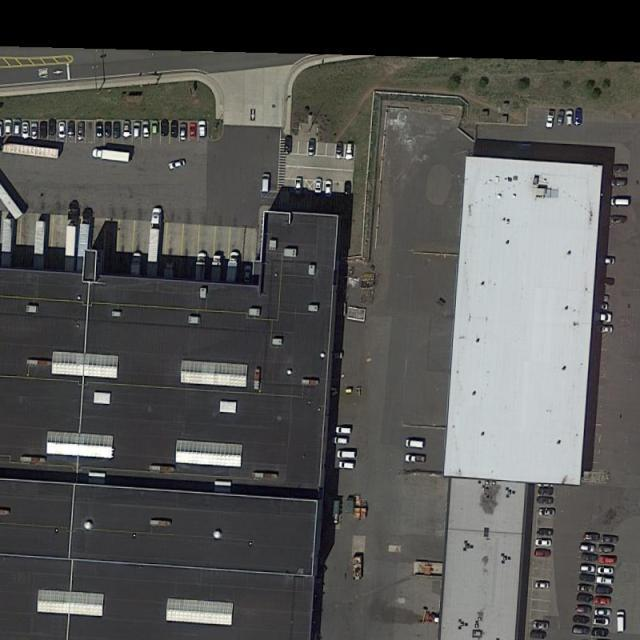vehicle: (1, 176, 34, 226), (146, 204, 166, 281), (1, 139, 63, 163), (62, 200, 78, 275), (76, 207, 91, 272), (91, 147, 132, 166), (210, 253, 224, 289), (128, 252, 144, 281), (194, 254, 207, 283), (228, 251, 241, 274), (590, 311, 612, 323), (406, 439, 425, 450), (334, 461, 354, 471), (168, 159, 186, 170), (545, 111, 556, 129), (531, 620, 550, 630), (572, 614, 591, 624), (617, 612, 626, 633), (406, 454, 427, 463), (592, 326, 615, 334), (578, 543, 598, 552), (572, 626, 590, 636), (607, 179, 629, 187), (77, 122, 86, 141), (178, 123, 187, 142), (261, 174, 270, 193), (600, 534, 619, 543), (596, 577, 615, 586), (530, 630, 547, 640), (556, 110, 566, 127), (333, 436, 350, 446), (610, 198, 631, 206), (598, 277, 616, 286), (574, 108, 583, 126), (113, 121, 122, 138), (284, 137, 293, 154), (335, 142, 344, 159), (595, 597, 612, 606), (610, 216, 627, 225), (598, 257, 615, 266), (593, 294, 610, 303), (295, 177, 303, 196), (532, 549, 551, 557), (582, 533, 601, 541), (122, 122, 131, 138), (170, 122, 179, 138), (308, 137, 316, 155), (243, 266, 252, 282), (597, 566, 615, 574), (537, 497, 555, 505), (580, 554, 598, 562), (579, 573, 595, 582), (575, 606, 593, 614), (592, 303, 608, 312), (334, 426, 352, 434), (338, 450, 356, 458), (22, 122, 30, 139), (538, 509, 555, 517), (533, 582, 550, 590), (537, 488, 554, 496), (600, 556, 617, 564), (596, 586, 613, 594), (593, 618, 610, 626), (577, 584, 594, 592), (577, 594, 594, 602), (133, 122, 142, 137), (161, 122, 170, 137), (189, 123, 198, 138), (345, 145, 354, 160), (579, 565, 598, 572), (4, 120, 12, 136), (49, 120, 57, 136), (58, 122, 66, 138), (68, 122, 76, 138), (96, 122, 104, 138), (105, 122, 113, 138), (142, 122, 150, 138), (198, 122, 206, 138), (598, 545, 614, 553), (566, 110, 574, 126), (32, 122, 39, 140), (314, 180, 323, 194), (536, 530, 554, 537), (535, 539, 553, 546), (592, 629, 610, 636), (609, 166, 630, 172), (14, 120, 22, 135), (151, 120, 159, 135), (325, 180, 332, 197), (594, 609, 611, 616), (41, 122, 47, 138), (345, 183, 352, 196), (1, 121, 3, 139)
